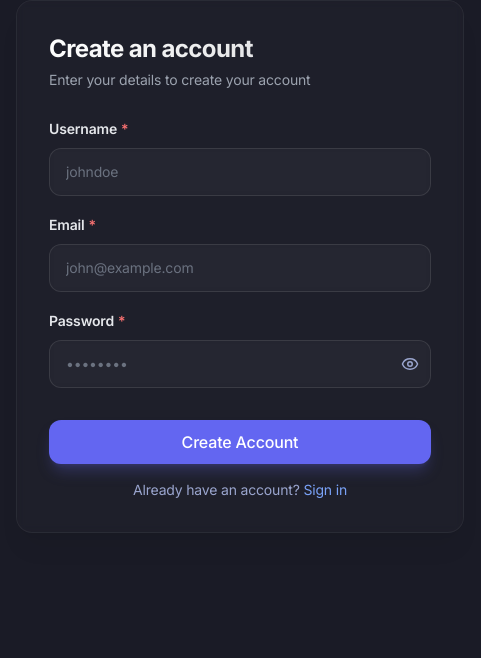
Authentication Flow Integration › Registration Flow › should show password strength meter
# Focus on password field to show requirements
Click the password field with placeholder "••••••••" at (240, 364), box x1=49 y1=340 x2=431 y2=388
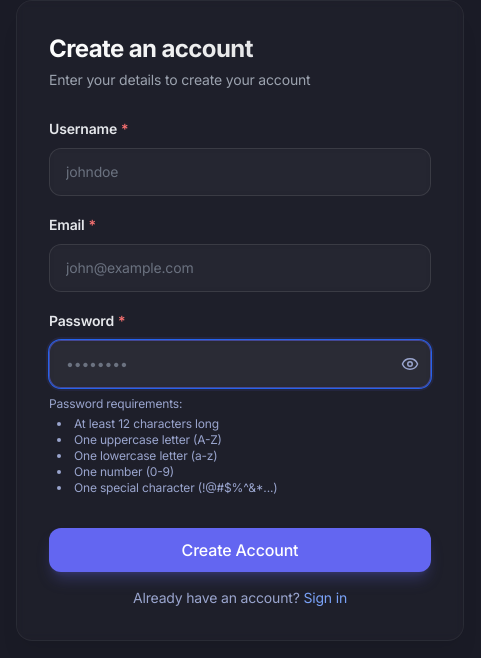
Result: the text "Password requirements:" is shown at x1=49 y1=396 x2=182 y2=411
Result: the list item "At least 12 characters long" is shown at x1=74 y1=416 x2=219 y2=431
Result: the list item "One uppercase letter (A-Z)" is shown at x1=74 y1=432 x2=222 y2=447
